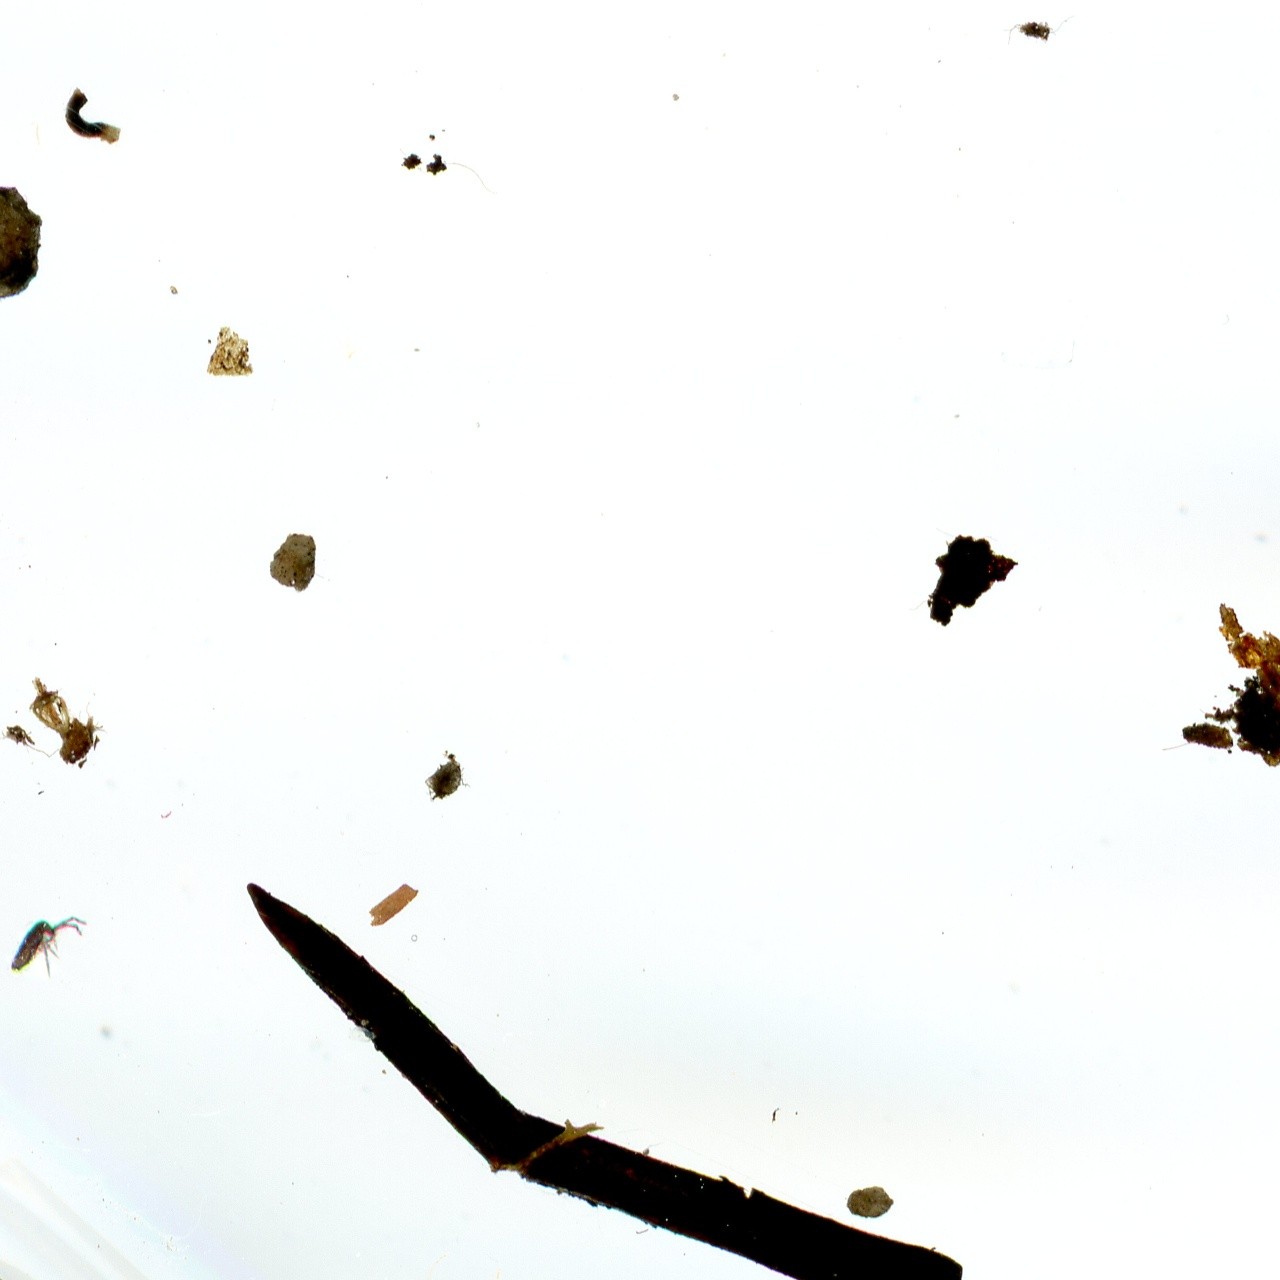arthropod: (0, 892, 96, 1000)
